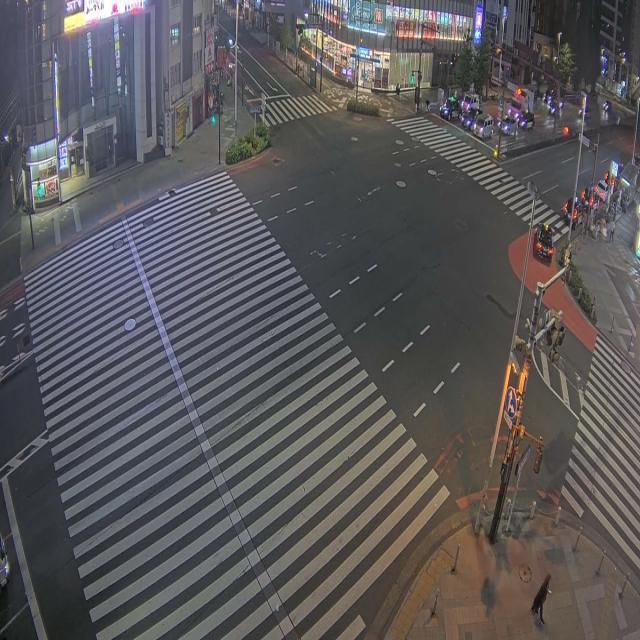car: (534, 224, 553, 261), (563, 203, 585, 229), (561, 195, 579, 223), (440, 96, 460, 119), (461, 108, 481, 130), (0, 537, 8, 587), (500, 116, 517, 135), (594, 180, 608, 202), (518, 112, 533, 129), (547, 98, 562, 114), (543, 90, 554, 104), (602, 101, 610, 112)
van: (472, 114, 493, 138), (461, 94, 479, 112)
